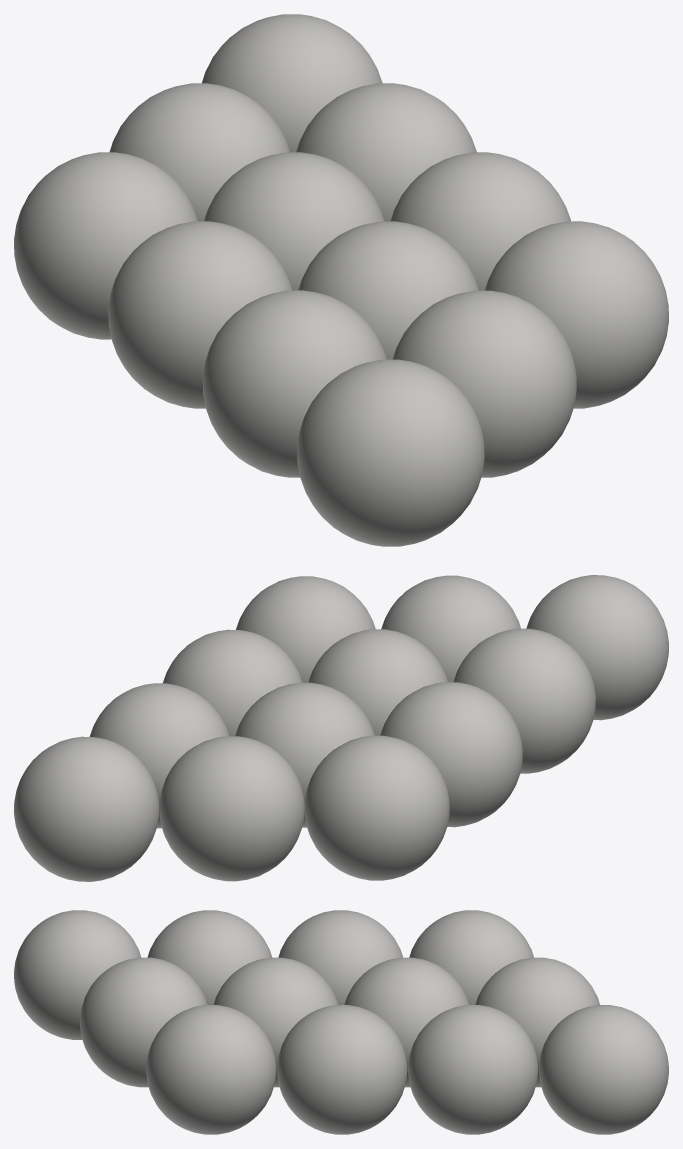
Rendered from liufang4_1.FBX.
3 views of the same model, one above another, from view 1: azimuth 30°, elevation 25°; view 2: azimuth 150°, elevation 25°; view 3: azimuth 270°, elevation 25° (orthographic). The views are drawn at different scales.
Visible parts, largest first — view 1: 对象322; view 2: 对象322; view 3: 对象322.
Boxes of the visible parts, box(x1,y1,x2,y2) form: 对象322: box(14, 14, 668, 546); 对象322: box(14, 575, 668, 881); 对象322: box(14, 910, 668, 1134).
Bounding box in the file's own units: 109 × 40 × 201.
1 material, 1 textured.
